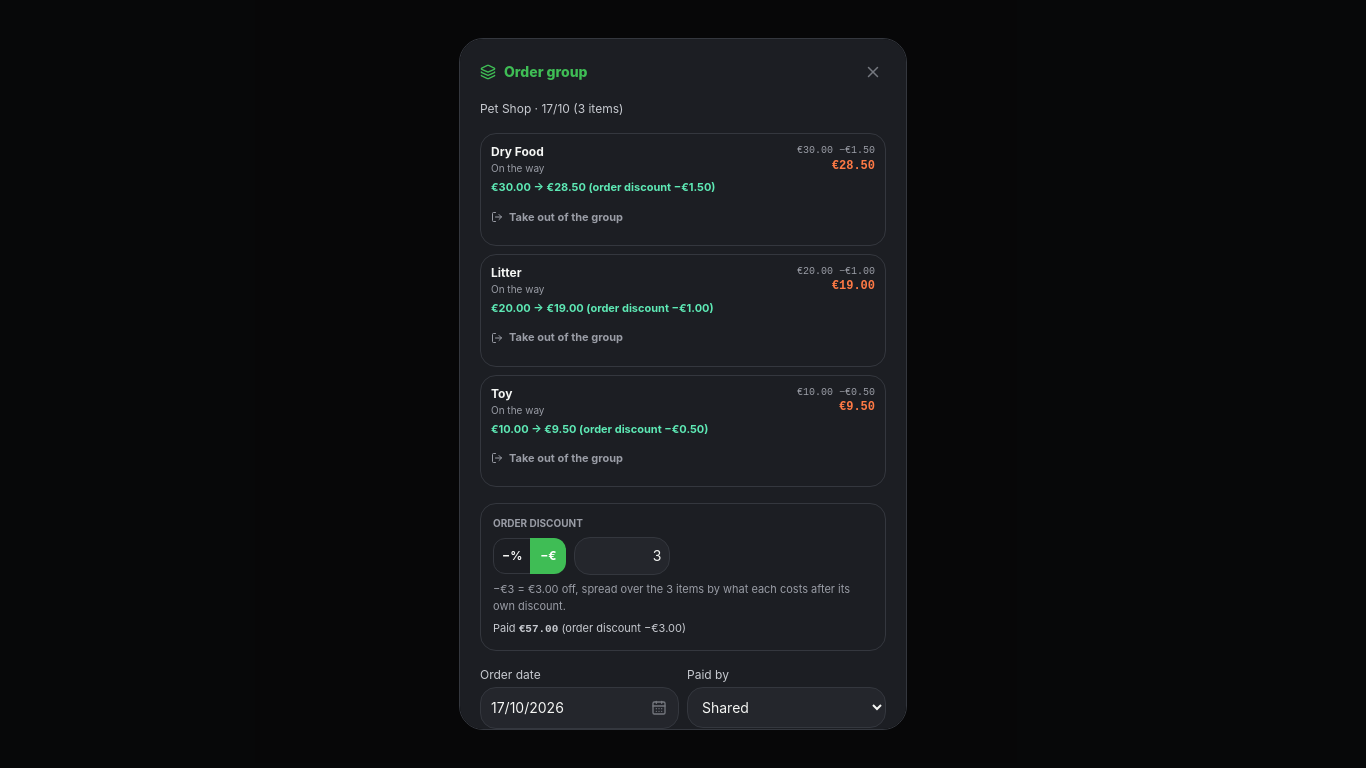
Test: "Order group": the question comes to the front › "Take out of the group": in front of the sheet, with the focus; Cancel goes back to the sheet, nothing changed
The image size is (1366, 768).
Step 1. Click the button "Take out of the group" below "Toy" → x=557, y=458, box [491, 440, 623, 476]
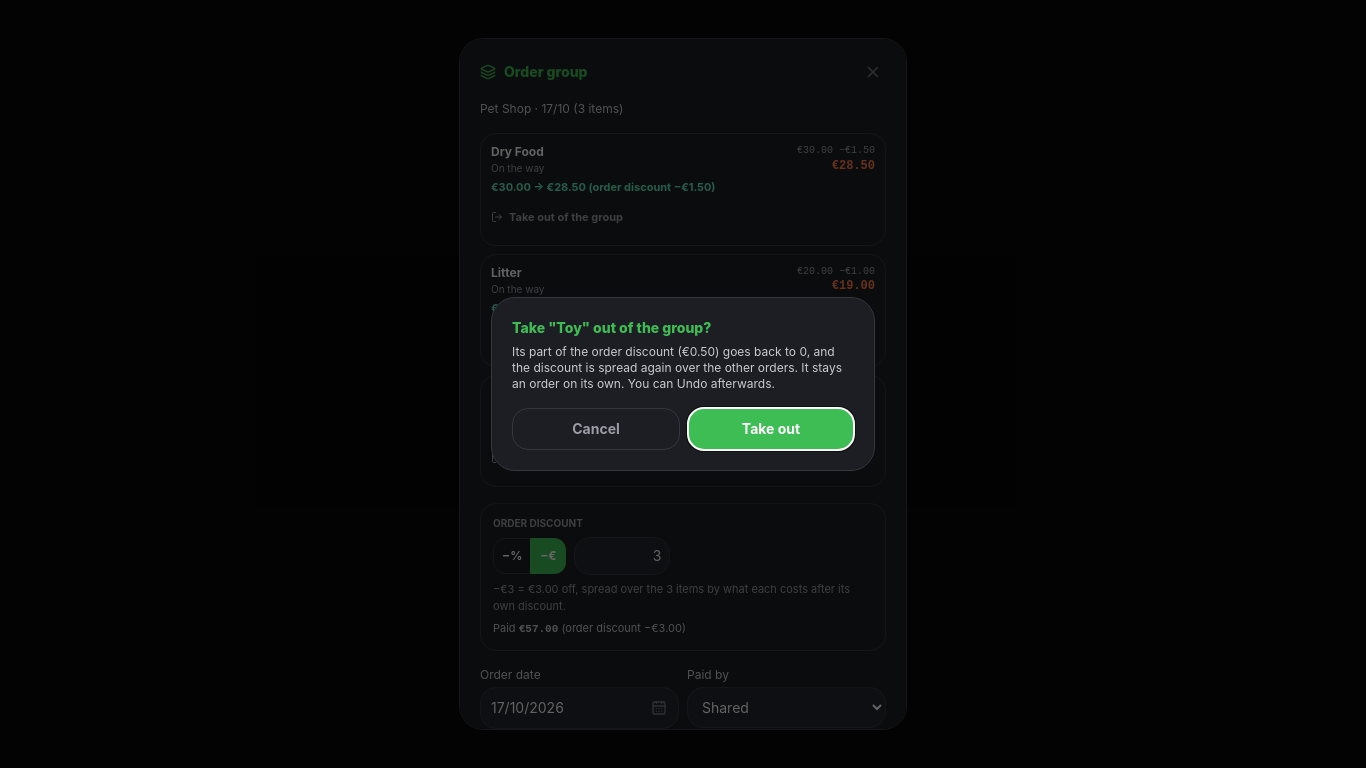
expect the button "Take out" is shown: met, box [688, 408, 854, 450]
Step 2. Click the button "Cancel" → x=596, y=429, box [512, 408, 680, 450]
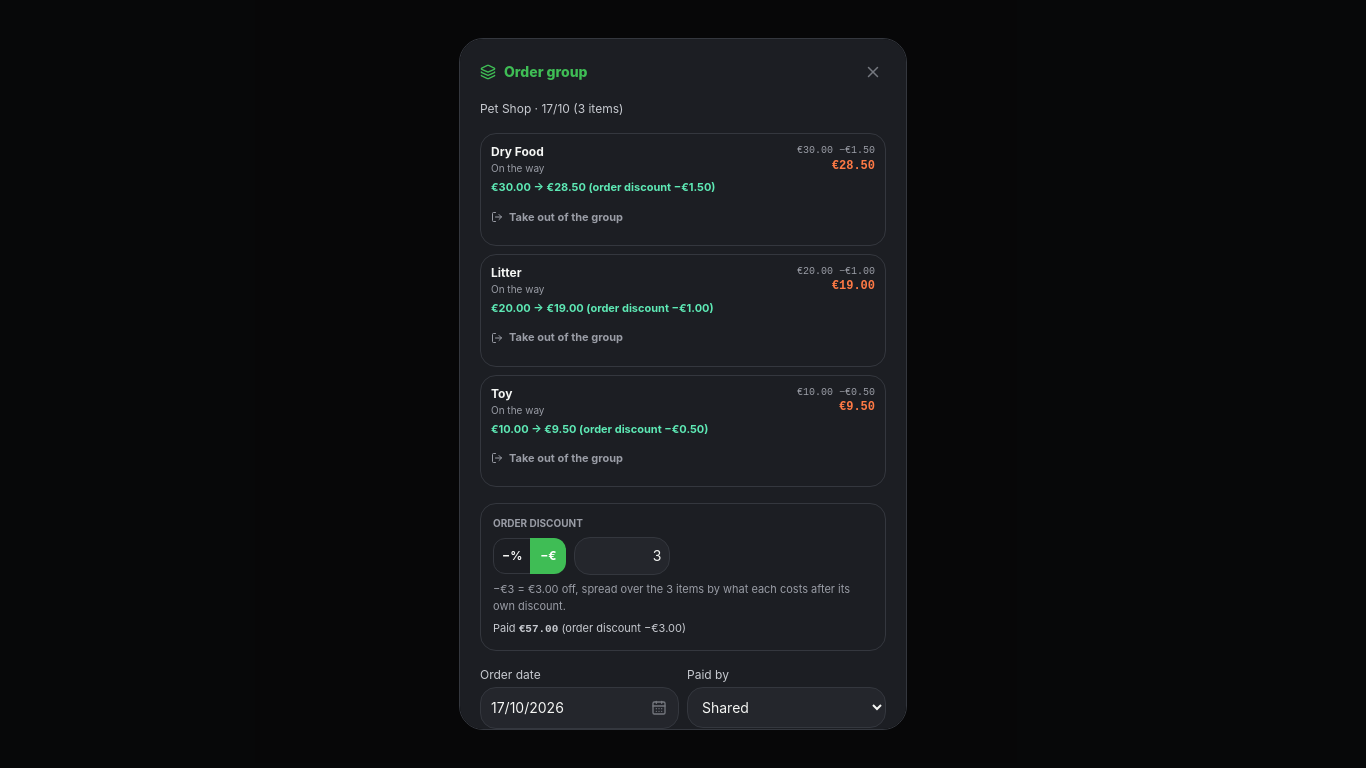
expect the dialog "Order group" is shown: met, box [459, 38, 907, 730]
expect the text "Take \"Toy\" out of the group?" is gone: met
